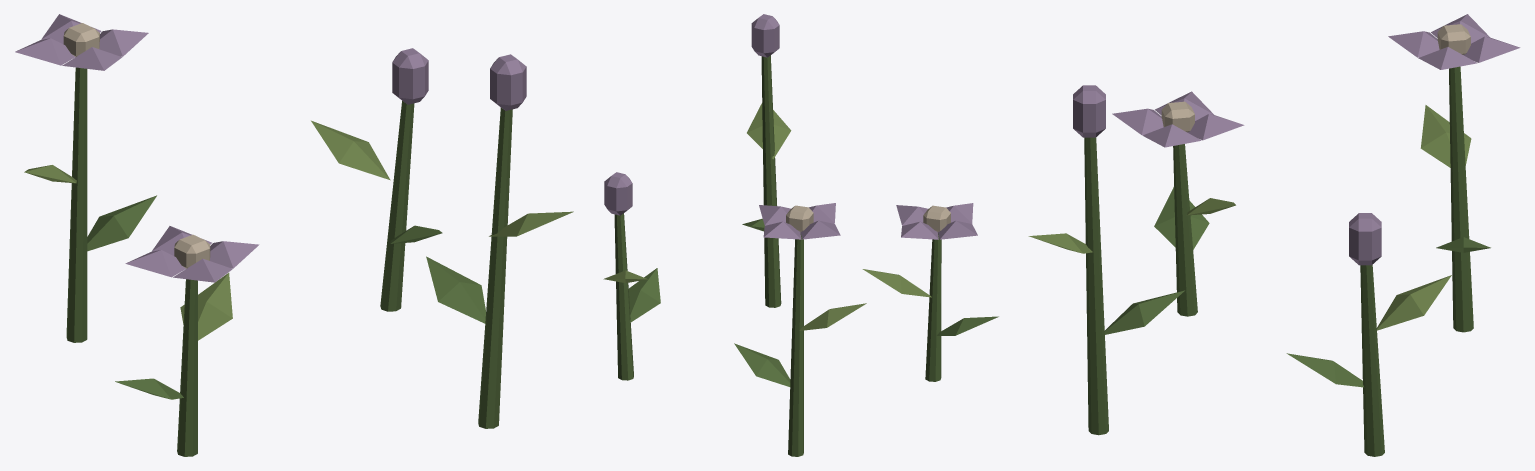
The model's file is flowers_2_spring.glb.
3 views of the same model, side by side, from view 1: azimuth 30°, elevation 25°; view 2: azimuth 150°, elevation 25°; view 3: azimuth 270°, elevation 25° (orthographic). The views are drawn at different scales.
Parts seen in each view (by area): view 1: flowers_2_spring; view 2: flowers_2_spring; view 3: flowers_2_spring.
Part boxes in pixels (left/top/right/bottom): flowers_2_spring: left=15, top=14, right=573, bottom=456; flowers_2_spring: left=603, top=14, right=998, bottom=456; flowers_2_spring: left=1028, top=14, right=1520, bottom=456.
Bounding box in the file's own units: 0.9681 × 0.825 × 1.05.
